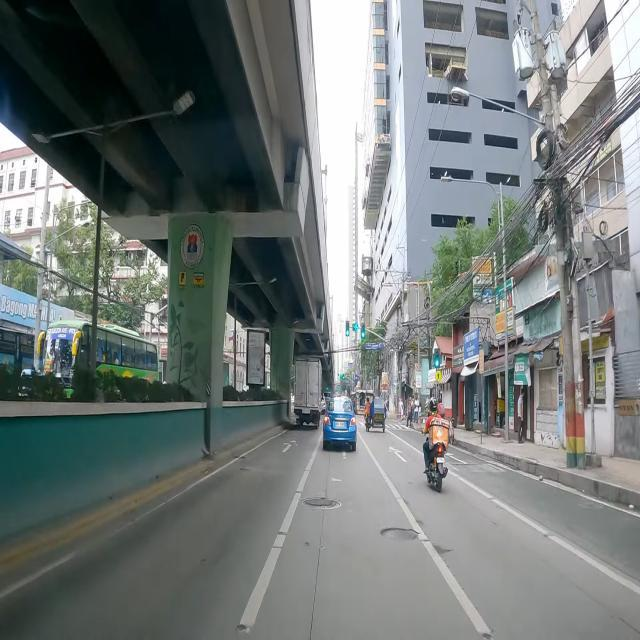bike: (448, 418, 454, 444)
bus: (38, 319, 158, 386)
car: (322, 396, 357, 451)
jeepney: (350, 390, 368, 416)
motorcycle: (422, 399, 450, 492)
tricycle: (364, 396, 386, 432)
truck: (294, 356, 322, 426)
